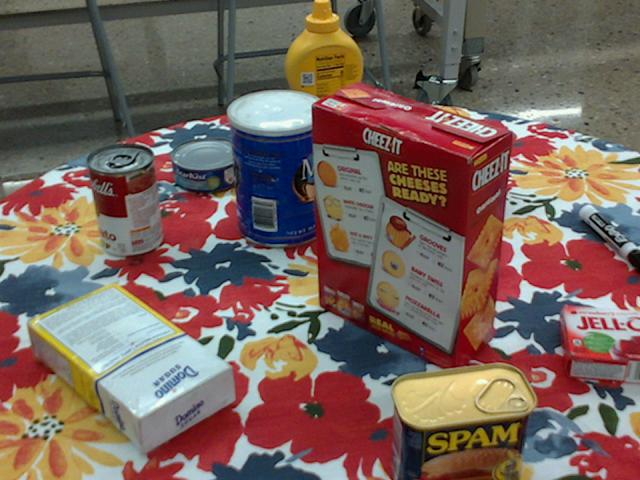cracker_box: (311, 84, 511, 376)
gelatin_box: (559, 305, 639, 381)
large_marker: (579, 203, 639, 270)
master_chef_can: (227, 89, 327, 248)
mug: (413, 118, 498, 204)
mustard_bottle: (285, 0, 364, 157)
potted_meat_can: (390, 363, 536, 479)
sugar_box: (27, 285, 234, 451)
tomato_soup_can: (87, 143, 162, 257)
tuna_fish_can: (172, 137, 244, 192)
